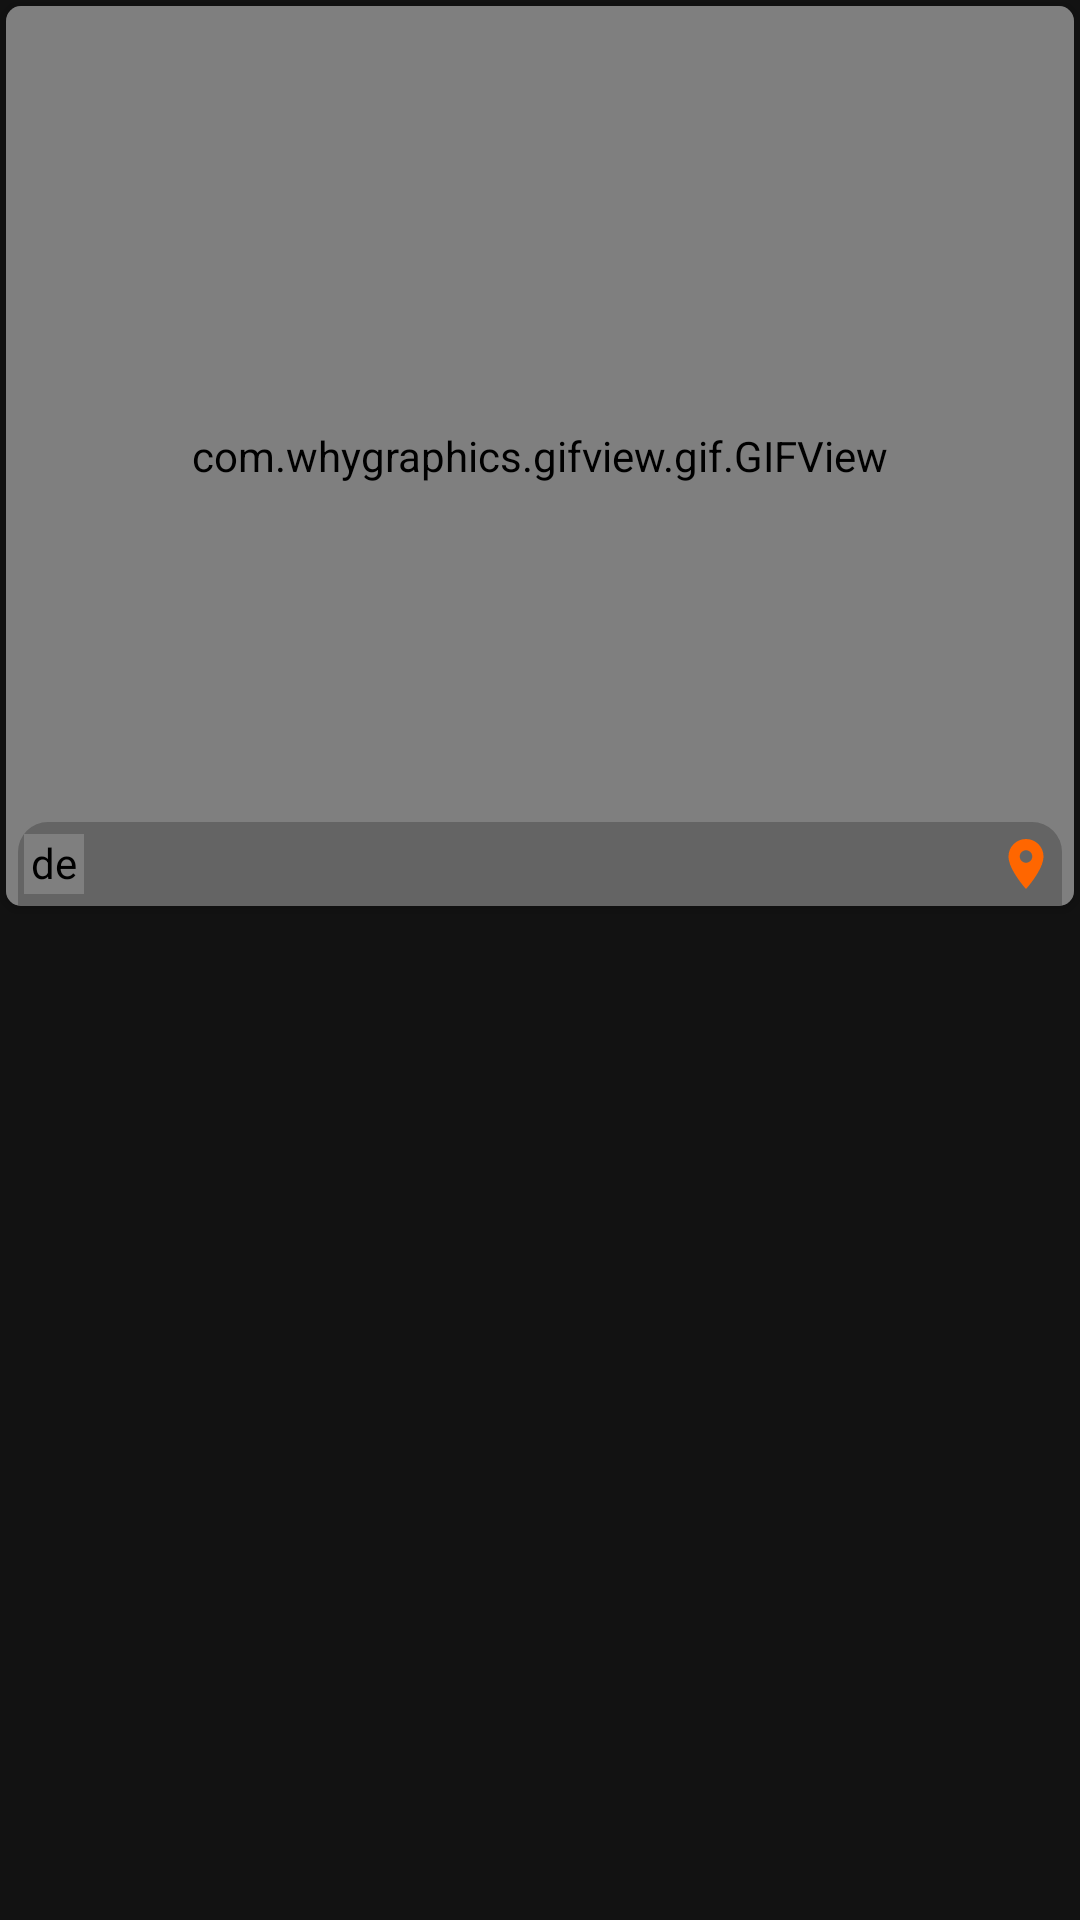

Named icons in this screenshot (1080px×1920px) and their bounding boxes, (x1, y1, x2, y2):
location on: (1008, 839, 1044, 889)
